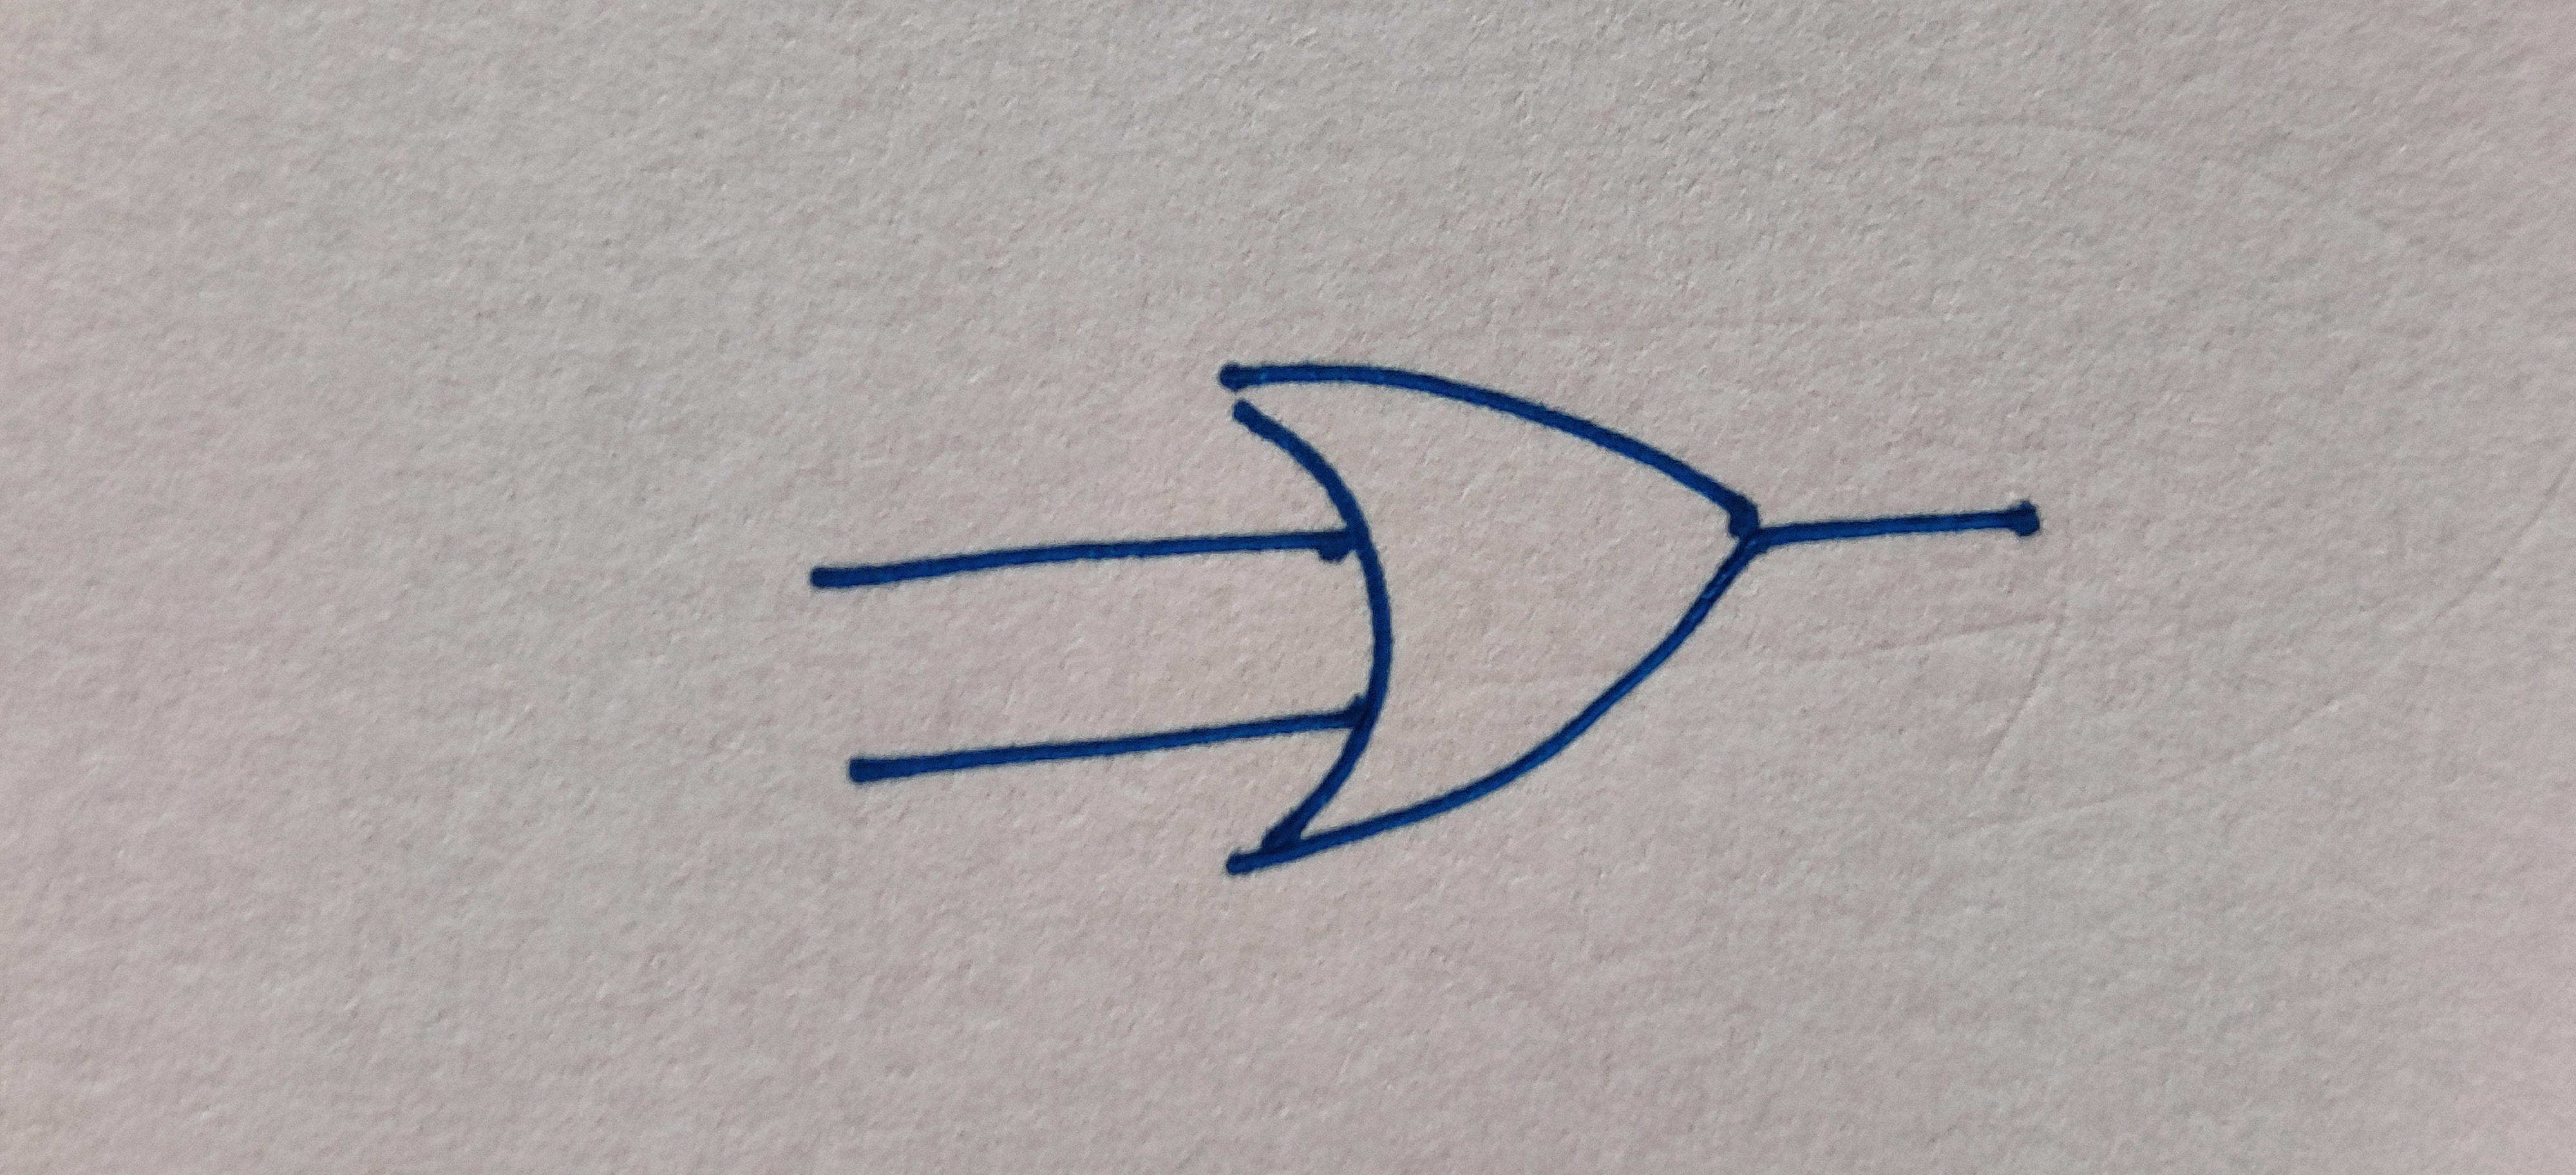or: (1209, 370, 1763, 869)
